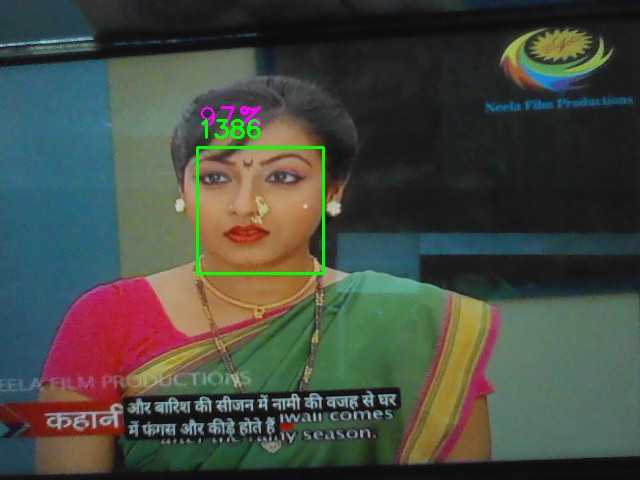fake: (197, 147, 324, 274)
